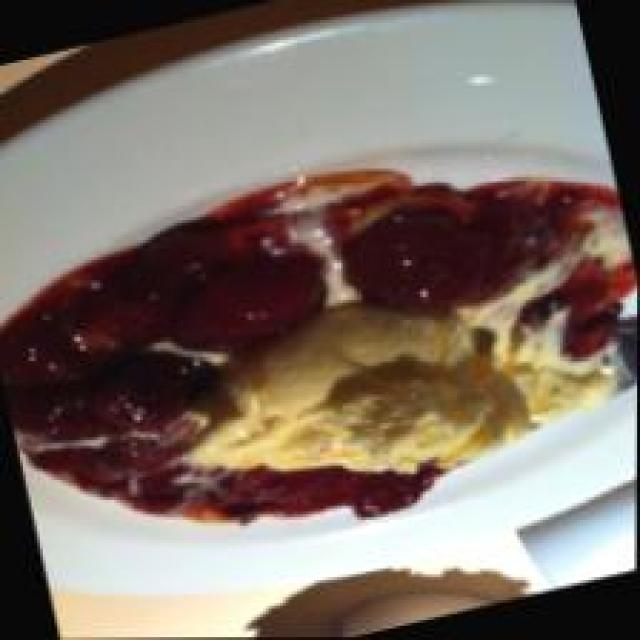Waffles: (0, 114, 640, 589)
